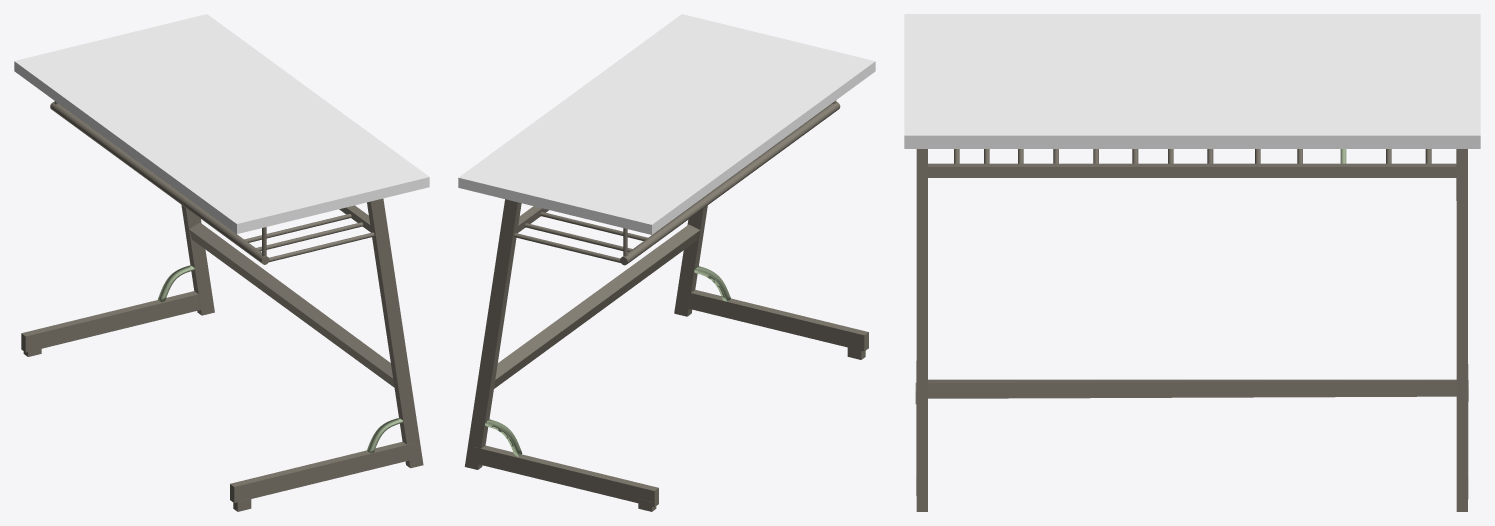
File: PupitreUnity.fbx
The picture shows the model from 3 angles, left to right: view 1: azimuth 30°, elevation 25°; view 2: azimuth 150°, elevation 25°; view 3: azimuth 270°, elevation 25°; orthographic projection. The views are drawn at different scales.
Visible parts, largest first — view 1: Pupitre; view 2: Pupitre; view 3: Pupitre.
Boxes of the visible parts, x1=… form: Pupitre: x1=14, y1=14, x2=429, y2=511; Pupitre: x1=458, y1=14, x2=875, y2=511; Pupitre: x1=904, y1=14, x2=1480, y2=511.
Bounding box in the file's own units: 50 × 72.44 × 100.
Materials: 1 (1 with a texture image).
